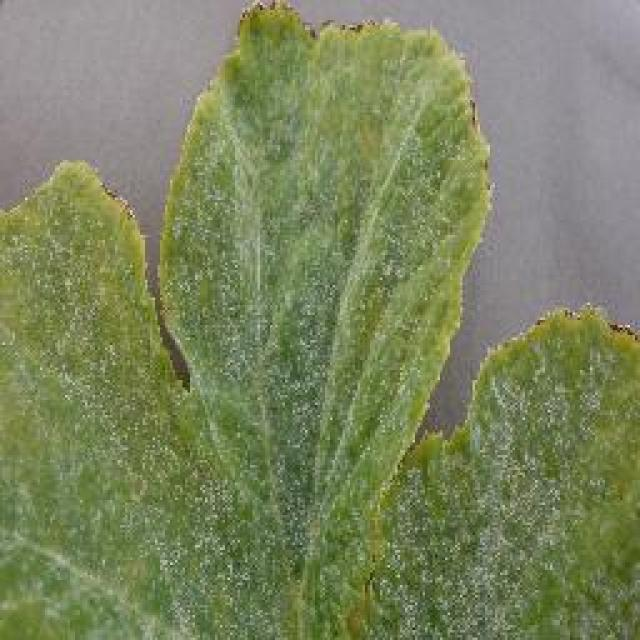Squ_Powdery_mildew: (40, 126, 582, 614)
